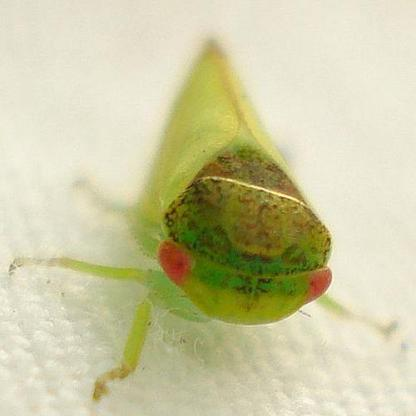green-leafhopper: (126, 41, 348, 336)
